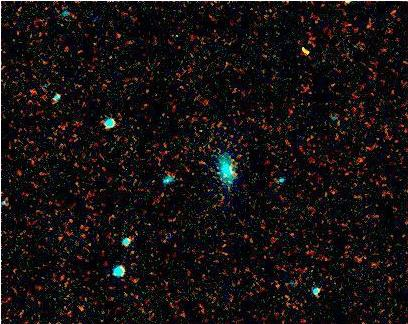star: (288, 37, 318, 67)
